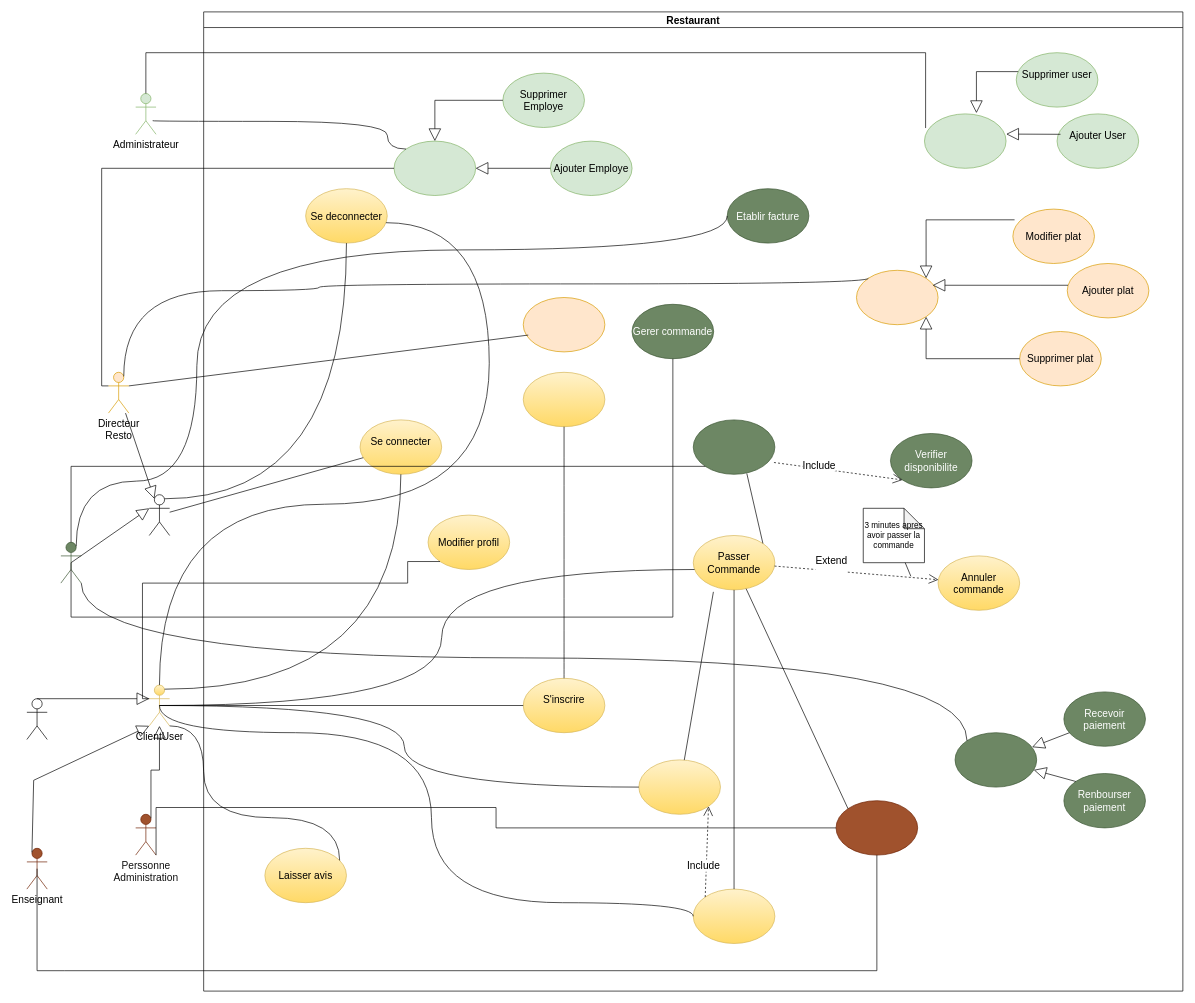
This 1195x1003 diagram has some shape labels left out. Here are the shapes that lost their labels. From the top down, the centre of each, then its label:
the point at 965,140: Gerer user
the point at 434,168: Gerer Employe
the point at 897,297: Gerer menu
the point at 564,324: Repondre a un avis
the point at 564,399: Consulter menu
the point at 734,446: Accepter/Refuser commande
the point at 159,515: Employe
the point at 70,562: Guichetier
the point at 36,719: Etudiant
the point at 995,759: Gerer paiement
the point at 679,786: Effectuer paiement
the point at 876,827: Se faire livrer
the point at 734,916: Recuperer commande
